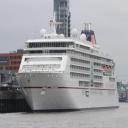cruises: (15, 12, 121, 116)
